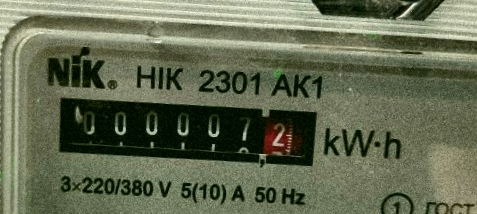0: (141, 107, 159, 137), (78, 107, 97, 135), (172, 109, 191, 137), (110, 108, 128, 136), (204, 111, 221, 140)
2: (268, 121, 287, 148)
7: (235, 112, 252, 143)
screen: (43, 83, 328, 178)
